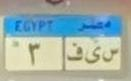3: (26, 39, 43, 66)
faa: (67, 41, 83, 64)
seen: (103, 45, 119, 64)
yaa: (85, 44, 101, 66)
